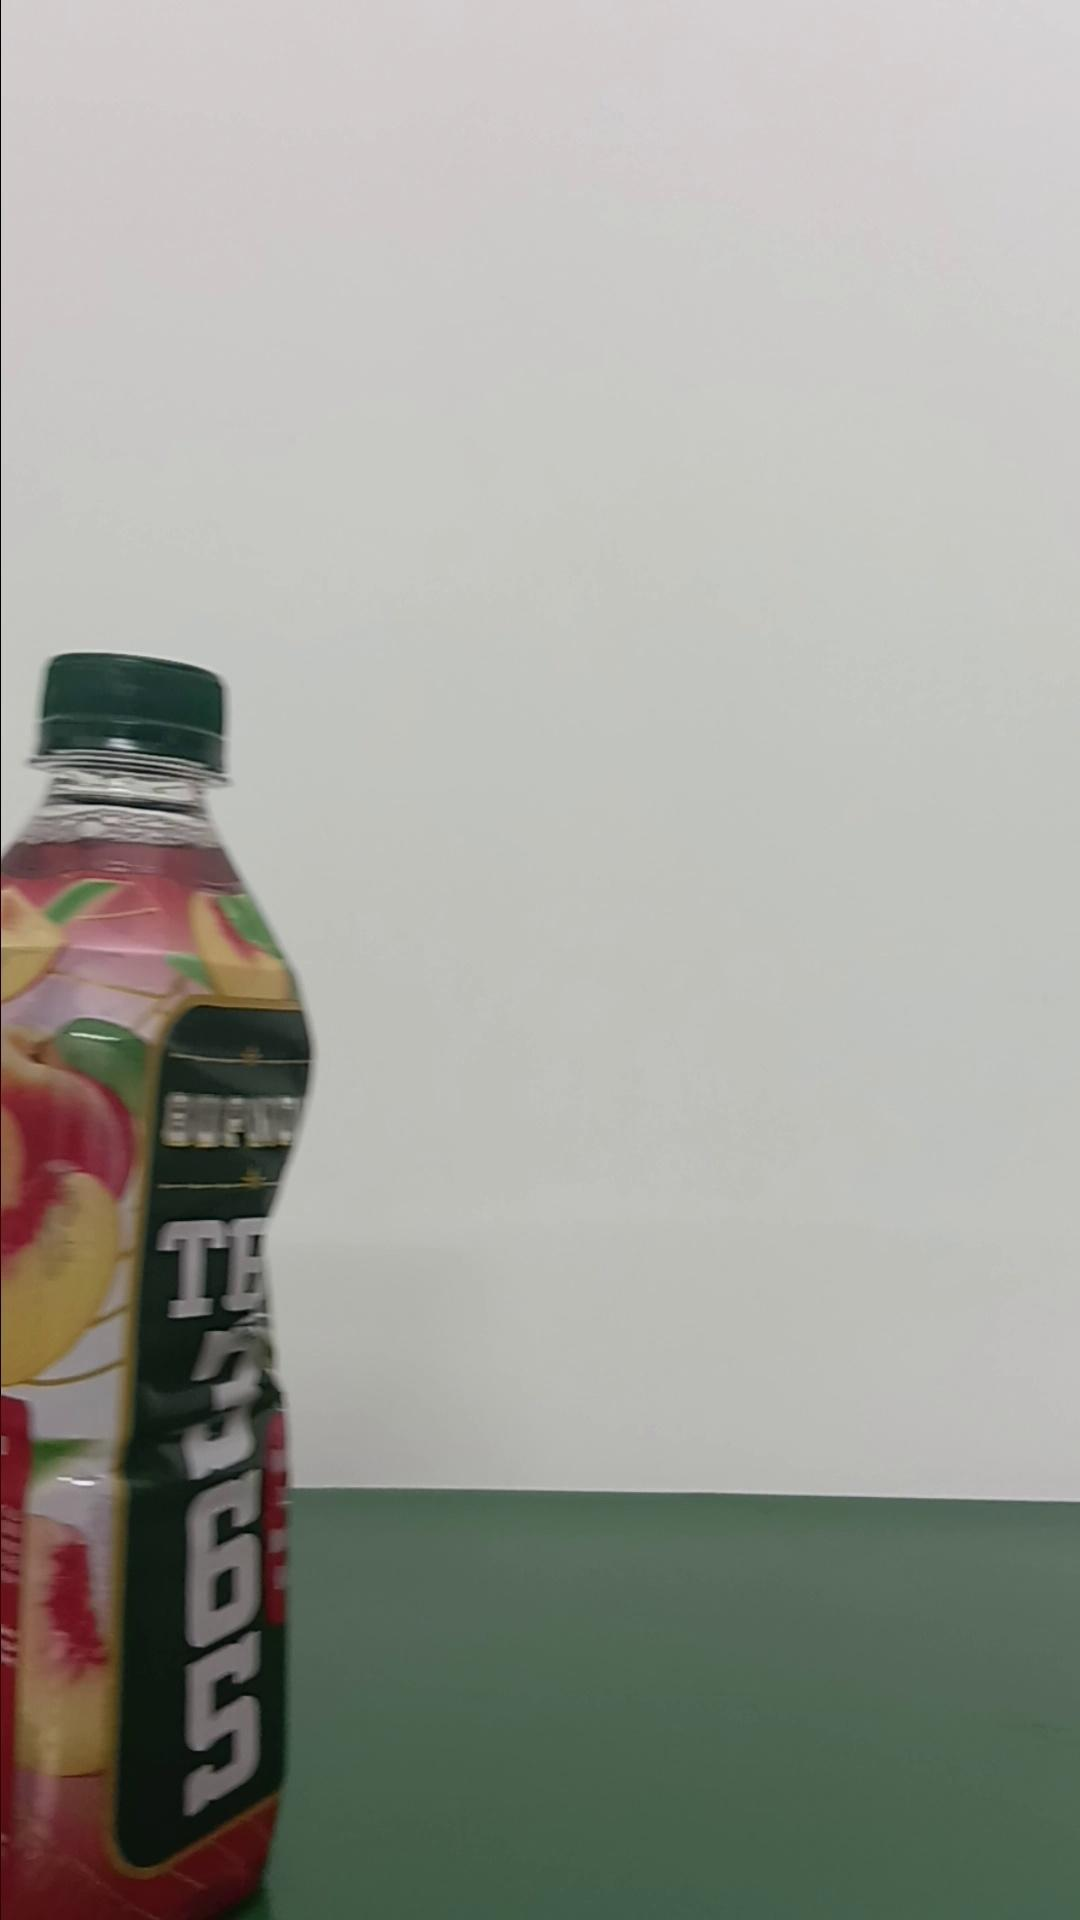loi meo sp: (3, 647, 315, 1913)
